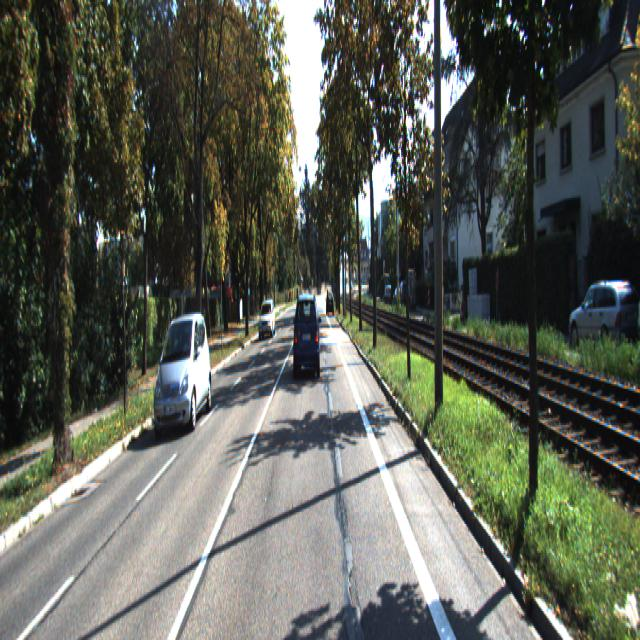Car: (154, 310, 212, 438), (570, 274, 640, 349), (293, 306, 321, 394), (258, 300, 276, 340), (636, 249, 640, 353)
